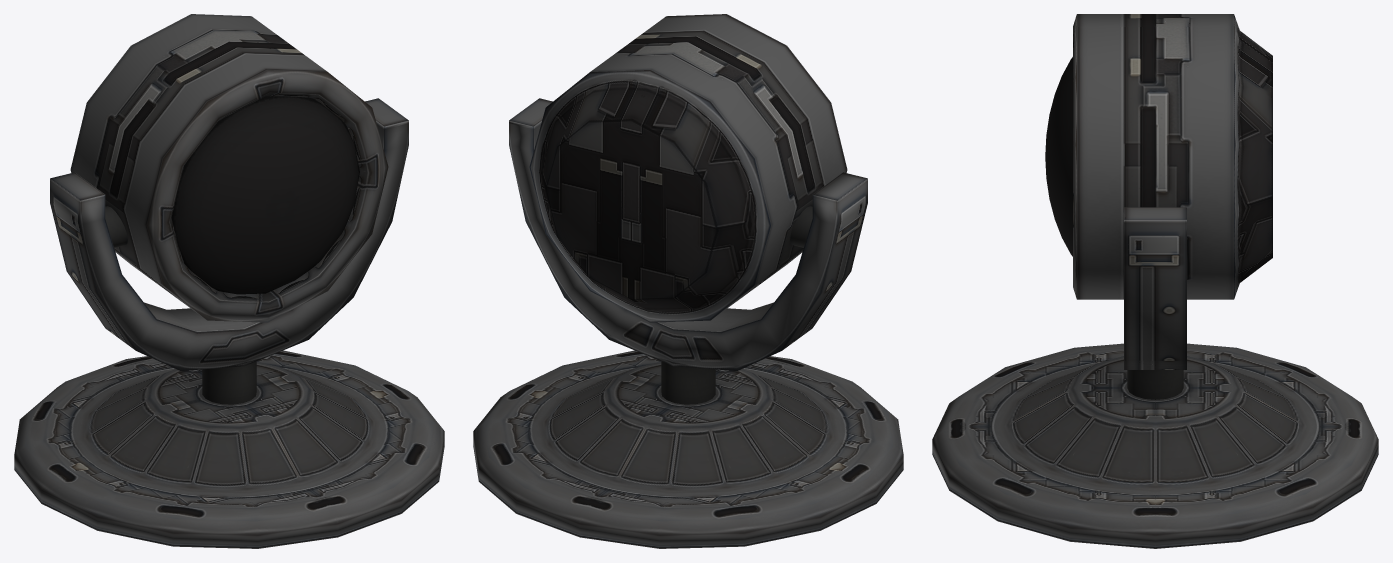
The model's file is AutoTurret Small Model.fbx.
3 renders of one model, left to right at view 1: azimuth 30°, elevation 25°; view 2: azimuth 150°, elevation 25°; view 3: azimuth 270°, elevation 25°, orthographic. The views are drawn at different scales.
Visible parts, largest first — view 1: AutoTurret_Base, AutoTurret_Barrel, pSphere1, AutoTurret_Struct; view 2: AutoTurret_Barrel, AutoTurret_Base, AutoTurret_Struct; view 3: AutoTurret_Base, AutoTurret_Barrel, AutoTurret_Struct, pSphere1.
Boxes of the visible parts, <box> form: AutoTurret_Base: <box>14,350,444,548</box>; AutoTurret_Barrel: <box>70,14,388,322</box>; pSphere1: <box>171,96,359,294</box>; AutoTurret_Struct: <box>50,98,408,404</box>; AutoTurret_Barrel: <box>529,14,847,322</box>; AutoTurret_Base: <box>473,350,903,548</box>; AutoTurret_Struct: <box>509,98,867,404</box>; AutoTurret_Base: <box>932,343,1378,548</box>; AutoTurret_Barrel: <box>1073,14,1272,299</box>; AutoTurret_Struct: <box>1124,207,1186,399</box>; pSphere1: <box>1045,57,1072,256</box>.
Bounding box in the file's own units: 2.93 × 3.1 × 2.93.
